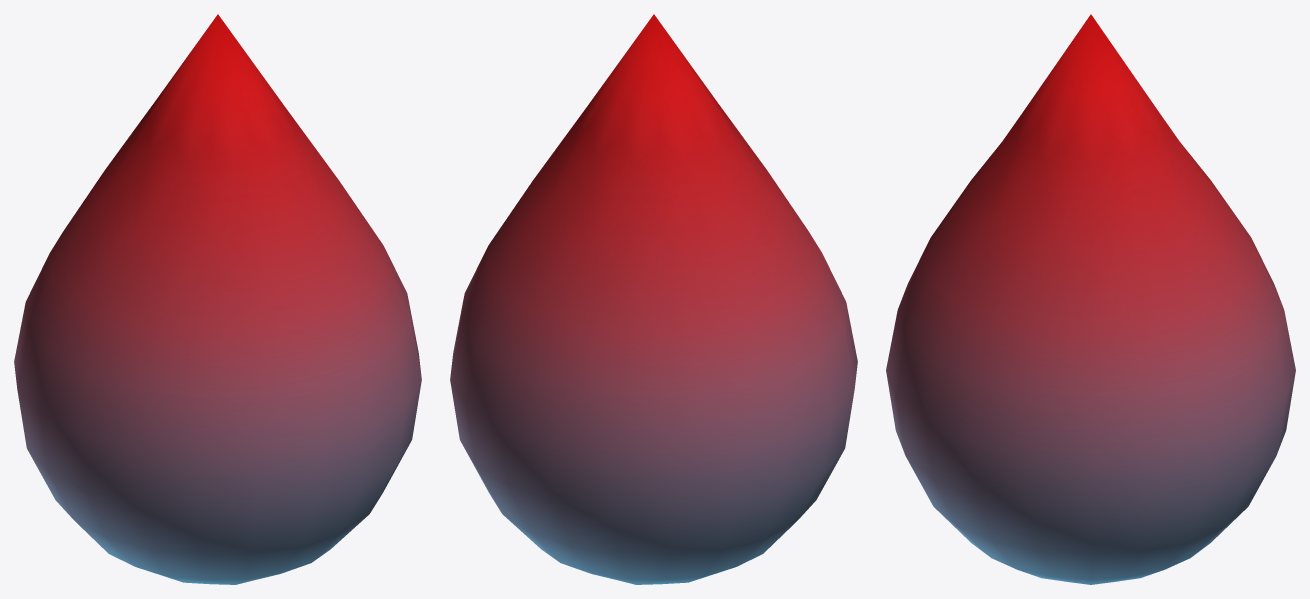
Rendered from dropOil.FBX.
3 views of the same model, side by side, from view 1: azimuth 30°, elevation 25°; view 2: azimuth 150°, elevation 25°; view 3: azimuth 270°, elevation 25° (orthographic).
Parts seen in each view (by area): view 1: dropOil; view 2: dropOil; view 3: dropOil.
Boxes of the visible parts, x1,y1,x2,y2 form: dropOil: (14, 14, 421, 584); dropOil: (450, 14, 857, 584); dropOil: (886, 14, 1295, 584).
Size of the model in its own units: 45.87 by 68.6 by 45.93.
Materials: 1 (1 with a texture image).
